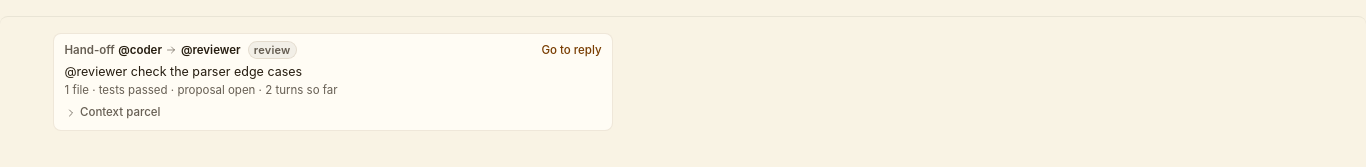
Test case: hand-off cards › jumps to the receiving agent's reply, or says it hasn't come yet
The width and height of the screenshot is (1366, 167).
Click the button "Go to reply" at (571, 50), box [541, 42, 602, 58]
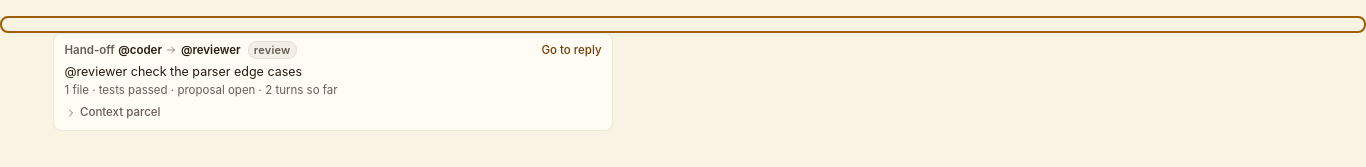
Click the button "Go to reply" at (571, 50), box [541, 42, 602, 58]
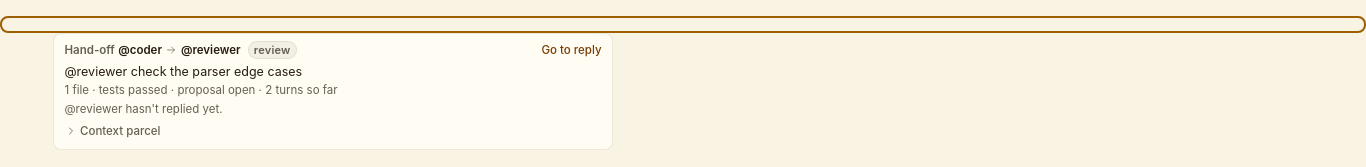
Expected: the text "@reviewer hasn't replied yet." is shown, [64, 102, 222, 116]
